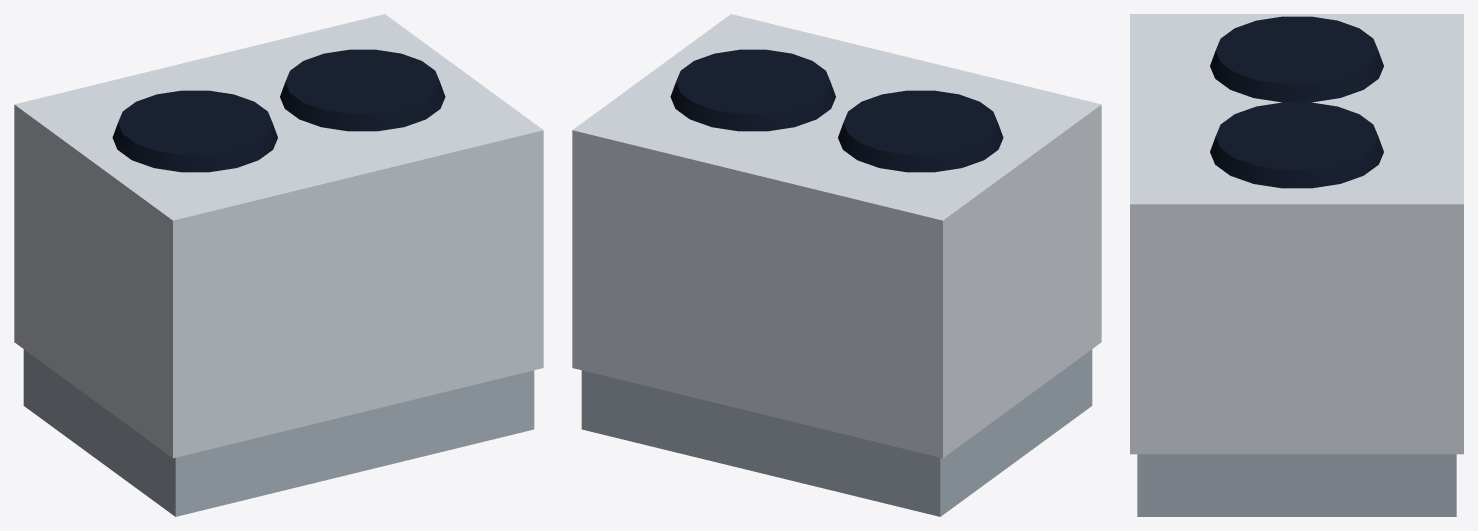
Rendered from equip-rooftop-rtu.glb.
The picture shows the model from 3 angles, left to right: view 1: azimuth 30°, elevation 25°; view 2: azimuth 150°, elevation 25°; view 3: azimuth 270°, elevation 25°; orthographic projection. The views are drawn at different scales.
Visible parts, largest first — view 1: hvac-equipment-rooftop-package-unit; view 2: hvac-equipment-rooftop-package-unit; view 3: hvac-equipment-rooftop-package-unit.
Part boxes in pixels (x1,y1,x2,y2): hvac-equipment-rooftop-package-unit: (14, 14, 543, 516); hvac-equipment-rooftop-package-unit: (572, 14, 1101, 516); hvac-equipment-rooftop-package-unit: (1130, 14, 1463, 516).
Bounding box in the file's own units: 1.55 × 1.26 × 1.15.
